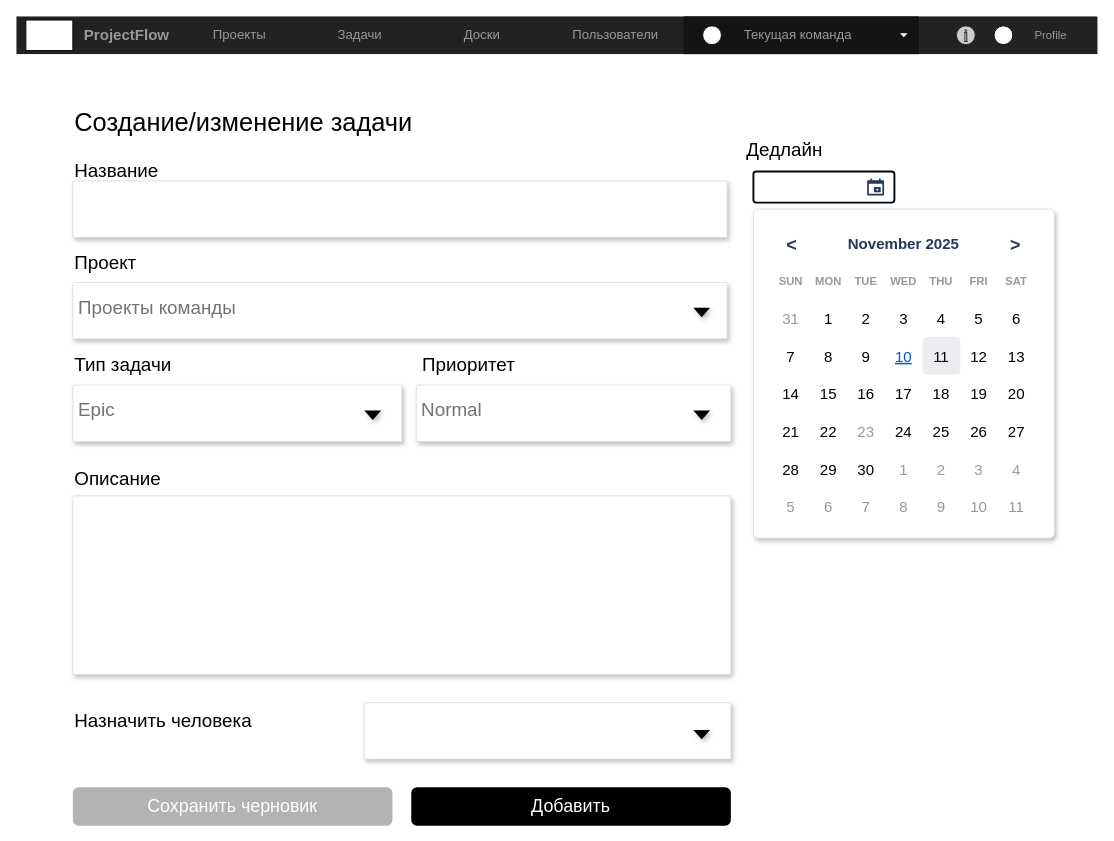
This 1114x841 diagram has some shape labels left out. The centre of each missing label's shape, as x and y in pixels:
Logo: (49,35)
Today: (823,186)
